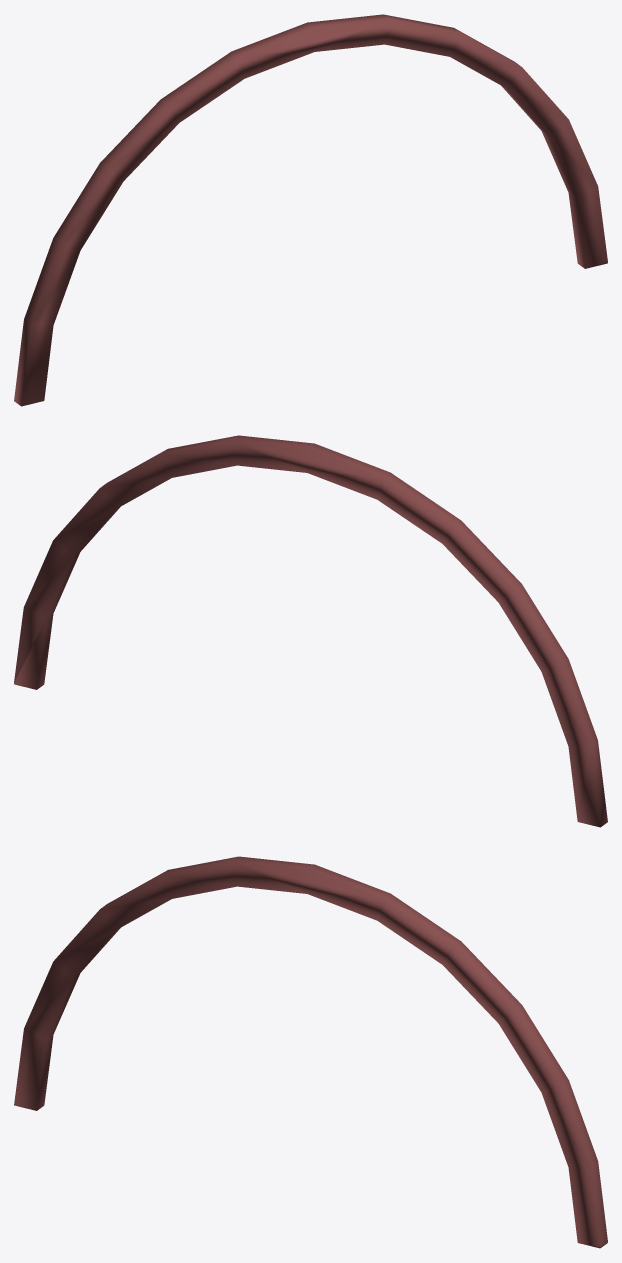
File: original-2.obj
The picture shows the model from 3 angles, top to bottom: view 1: azimuth 30°, elevation 25°; view 2: azimuth 150°, elevation 25°; view 3: azimuth 330°, elevation 25°; orthographic projection.
Visible parts, largest first — view 1: Group3/mesh4/mesh4-geometry#mesh4-geometry; view 2: Group3/mesh4/mesh4-geometry#mesh4-geometry; view 3: Group3/mesh4/mesh4-geometry#mesh4-geometry.
Boxes of the visible parts, left/top/right/bottom form: Group3/mesh4/mesh4-geometry#mesh4-geometry: left=14, top=14, right=607, bottom=406; Group3/mesh4/mesh4-geometry#mesh4-geometry: left=14, top=435, right=607, bottom=827; Group3/mesh4/mesh4-geometry#mesh4-geometry: left=14, top=856, right=607, bottom=1248.
Size of the model in its own units: 1.14 by 0.5689 by 0.0249.
